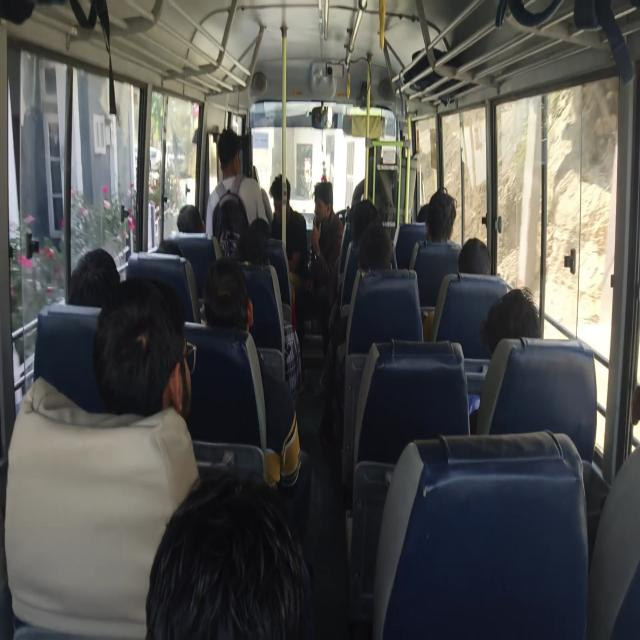person: (133, 473, 299, 640), (92, 276, 201, 434), (66, 252, 130, 334), (201, 266, 255, 346), (494, 292, 541, 354), (212, 133, 252, 196), (262, 175, 298, 241), (358, 240, 395, 304), (174, 184, 210, 244), (237, 223, 276, 278), (230, 212, 270, 255), (345, 212, 386, 249), (456, 233, 481, 293), (313, 182, 342, 233), (431, 198, 456, 238), (416, 192, 439, 232)
